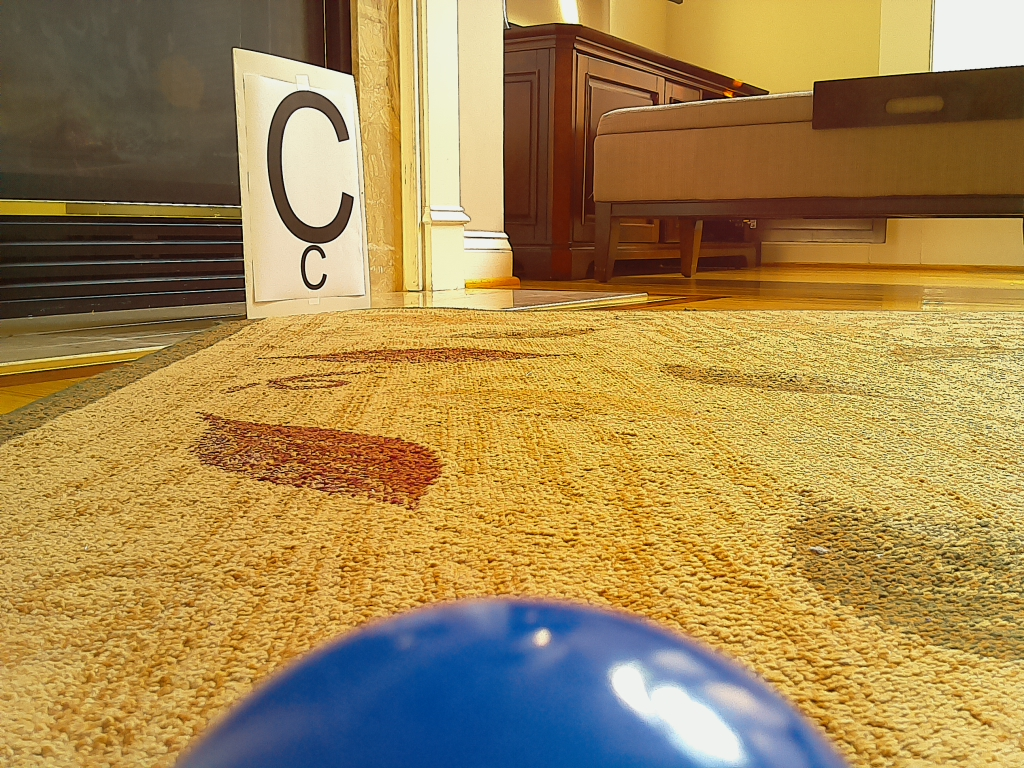letter: (266, 91, 353, 244)
